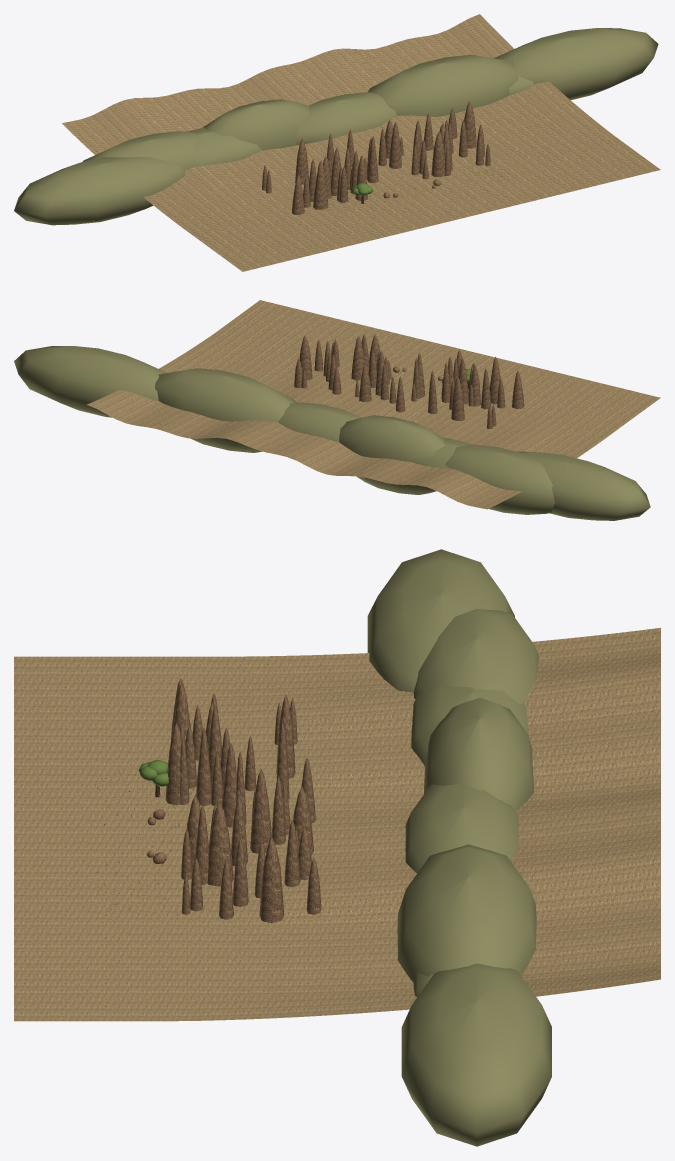
File: rochers.glb
The picture shows the model from 3 angles, top to bottom: view 1: azimuth 30°, elevation 25°; view 2: azimuth 150°, elevation 25°; view 3: azimuth 270°, elevation 25°; orthographic projection. The views are drawn at different scales.
Visible parts, largest first — view 1: sol, decor; view 2: sol, decor; view 3: sol, decor.
Part boxes in pixels (<box>): sol: <box>62,14,660,271</box>; decor: <box>14,28,658,225</box>; sol: <box>87,300,660,509</box>; decor: <box>14,334,650,520</box>; sol: <box>14,627,660,1021</box>; decor: <box>93,549,551,1146</box>.
Size of the model in its own units: 188 by 22.72 by 90.
6 materials, 2 textured.
